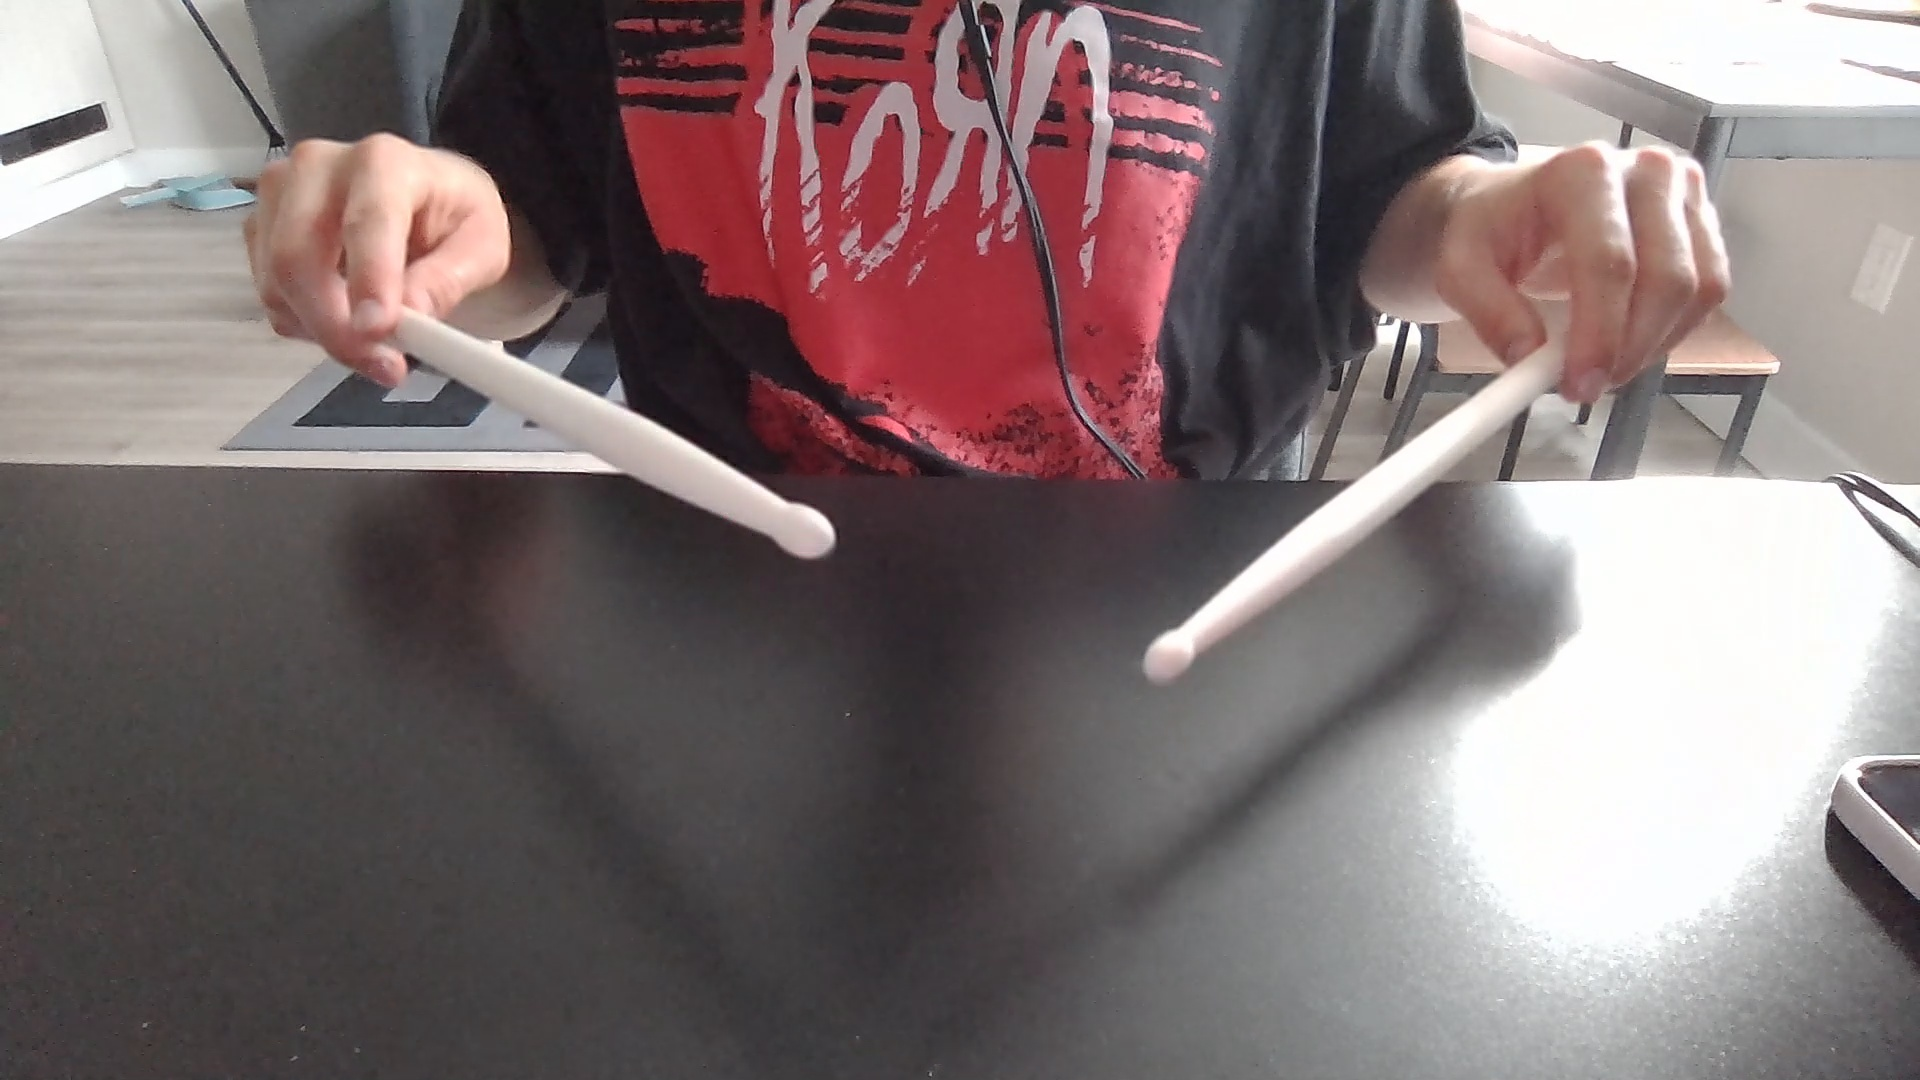left_stick: (760, 476, 851, 584)
right_stick: (1137, 615, 1207, 699)
